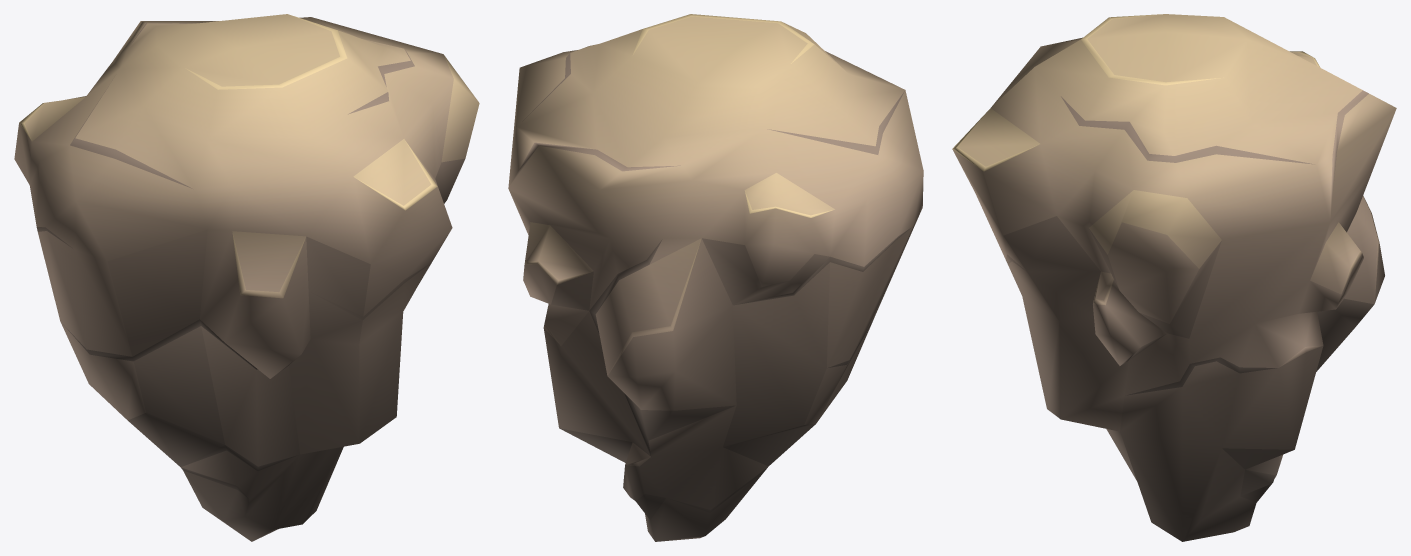
File: rockLrg.fbx
3 views of the same model, side by side, from view 1: azimuth 30°, elevation 25°; view 2: azimuth 150°, elevation 25°; view 3: azimuth 270°, elevation 25° (orthographic). The views are drawn at different scales.
Visible parts, largest first — view 1: rockLrg; view 2: rockLrg; view 3: rockLrg.
Boxes of the visible parts, x1,y1,x2,y2 form: rockLrg: [14, 14, 479, 541]; rockLrg: [508, 14, 923, 541]; rockLrg: [952, 14, 1396, 541].
Bounding box in the file's own units: 1226 × 1464 × 1210.
